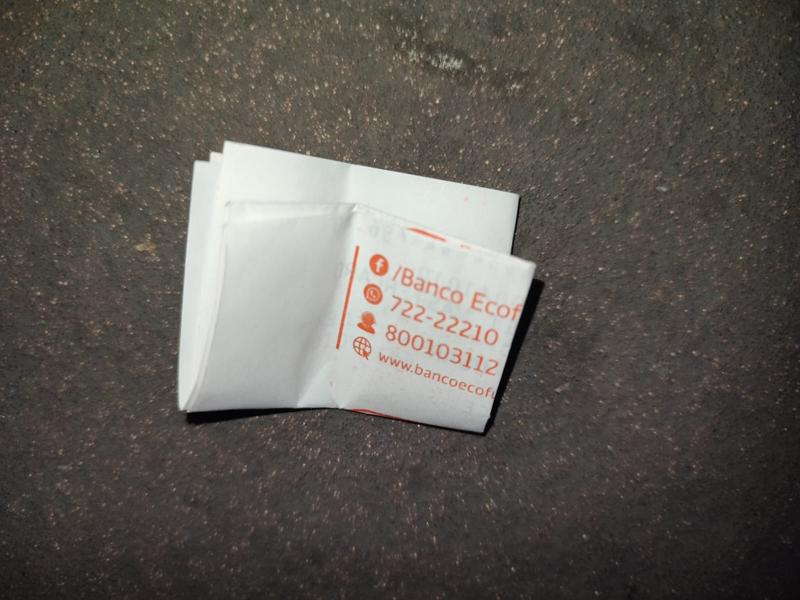papel: (176, 143, 544, 438)
